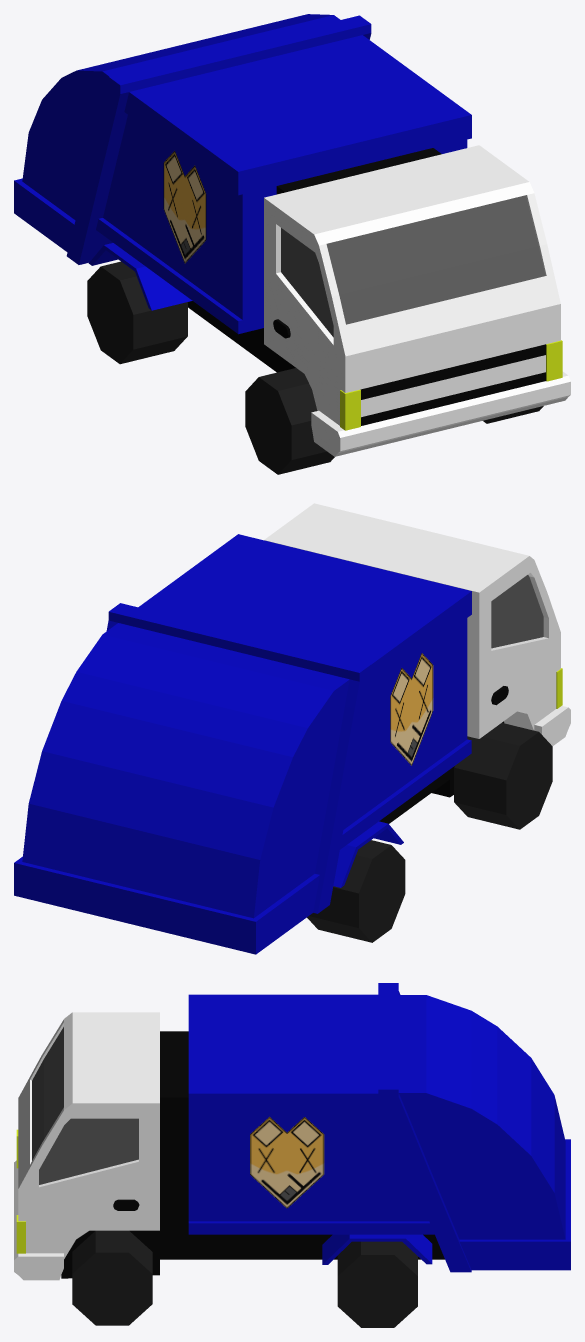
The model's file is GarbageTruck.obj.
The picture shows the model from 3 angles, top to bottom: view 1: azimuth 30°, elevation 25°; view 2: azimuth 150°, elevation 25°; view 3: azimuth 270°, elevation 25°; orthographic projection. The views are drawn at different scales.
Visible parts, largest first — view 1: GarbageTruck, Wheel.001, Wheel, FoxDecals.001; view 2: GarbageTruck, Wheel, Wheel.001, FoxDecals.001; view 3: GarbageTruck, Wheel, Wheel.001, FoxDecals.
Part boxes in pixels (x1,y1,x2,y2): GarbageTruck: (14,14,570,456); Wheel.001: (87,261,187,364); Wheel: (245,368,543,474); FoxDecals.001: (163,151,206,263); GarbageTruck: (14,503,570,954); Wheel: (454,723,552,829); Wheel.001: (307,840,405,942); FoxDecals.001: (390,653,433,765); GarbageTruck: (14,983,570,1280); Wheel: (72,1230,152,1325); Wheel.001: (337,1241,417,1327); FoxDecals: (250,1117,324,1208).
Bounding box in the file's own units: 25.87 × 24.5 × 52.88.
